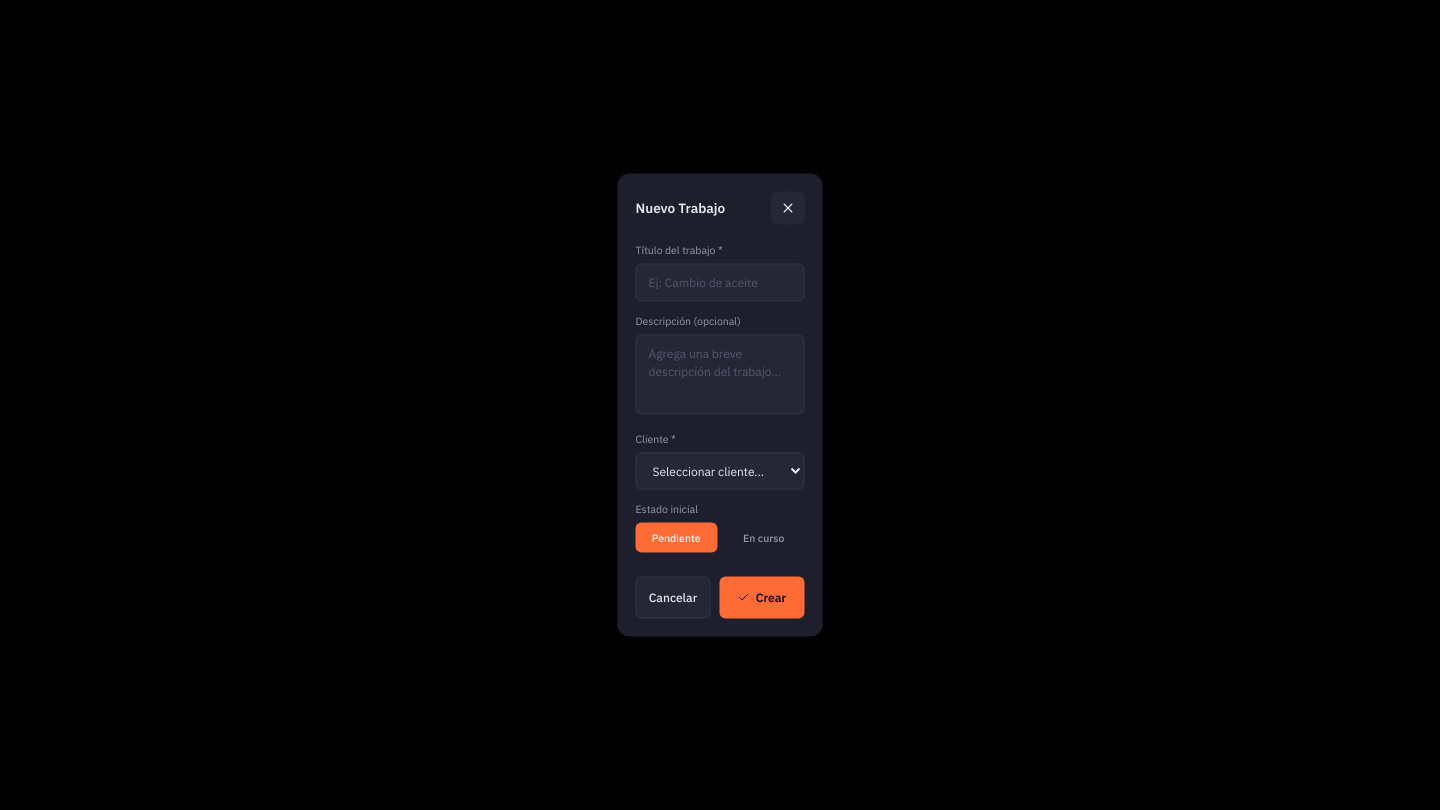
Test: TrabajoForm (caracterización) › crear: valida título y cliente requeridos sin enviar
Click the button "Crear": (762, 598) [720,576,804,618]
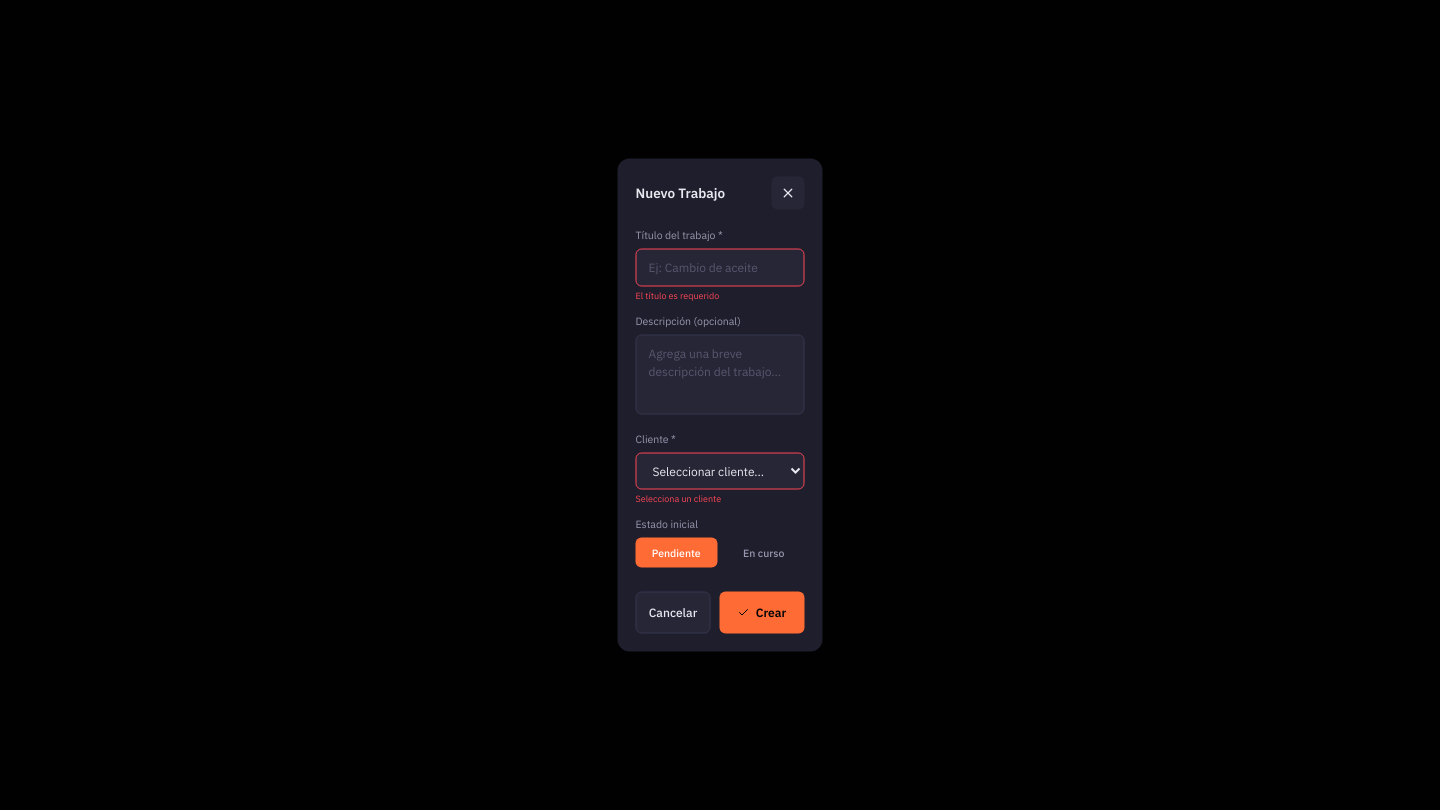
Check: the text "El título es requerido" is shown, box [636,290,719,300]
Check: the text "Selecciona un cliente" is shown, box [636,492,721,504]
